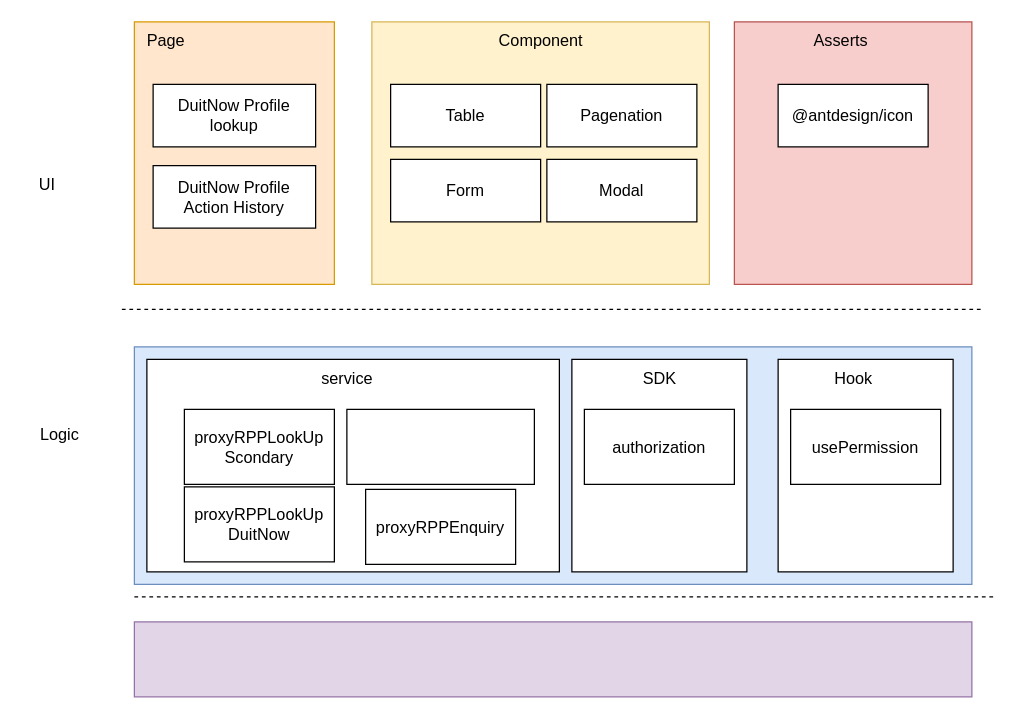
This 1020x719 diagram has some shape labels left out. The centre of each missing label's shape, as x and y in pixels:
"BE" belongs at pixel 552 659.
"proxyOperationEnquriy" belongs at pixel 440 446.
